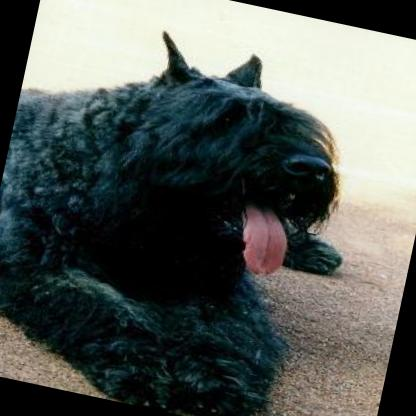Bouvier_des_Flandres: (0, 1, 382, 416)
